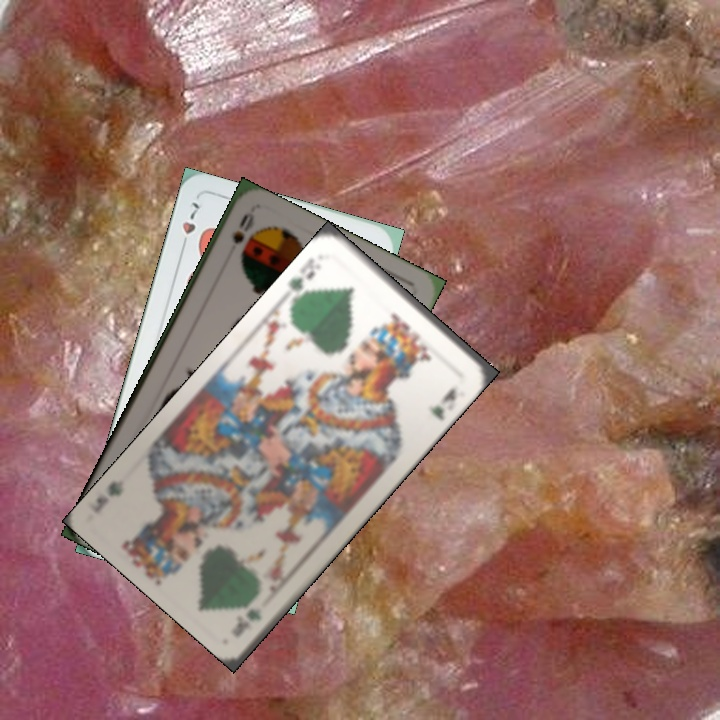GK: (284, 253, 318, 302), (227, 604, 265, 640)
H7: (178, 198, 202, 254)
SO: (228, 208, 257, 247)
